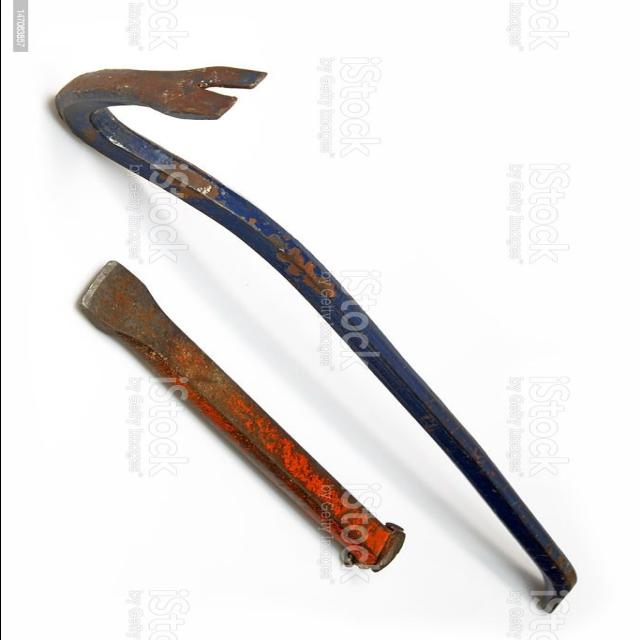Linggis: (54, 62, 578, 616)
